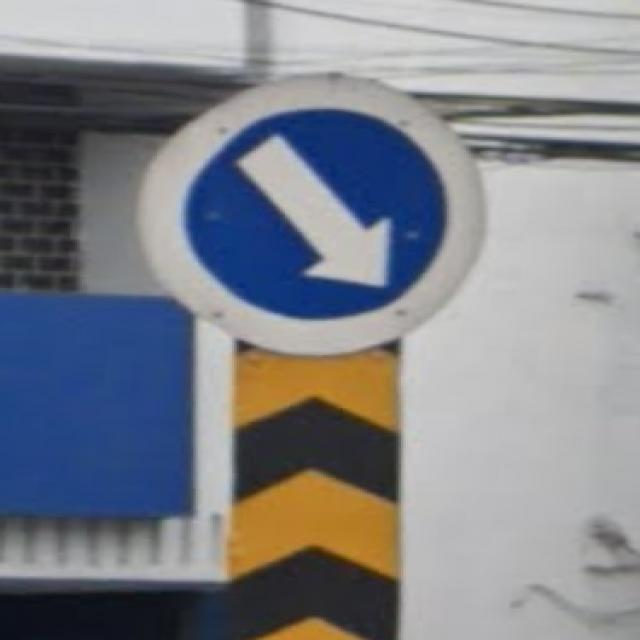keep right: (135, 72, 483, 355)
